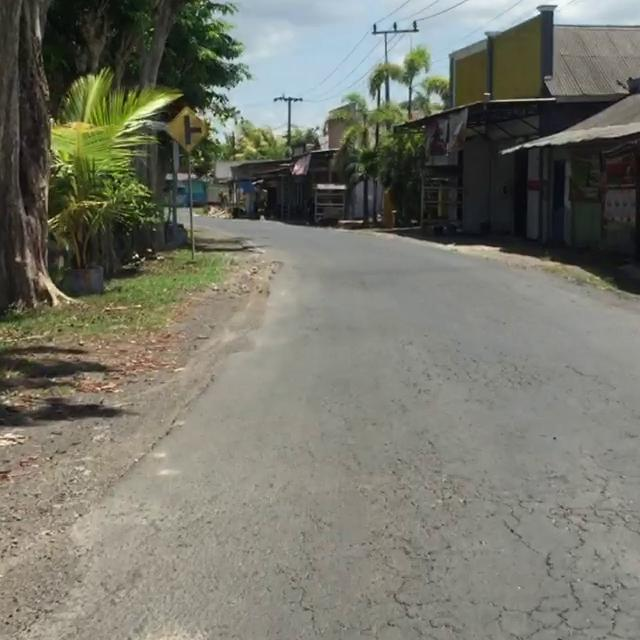retak_kulit_buaya: (481, 507, 640, 640), (352, 482, 475, 640)
